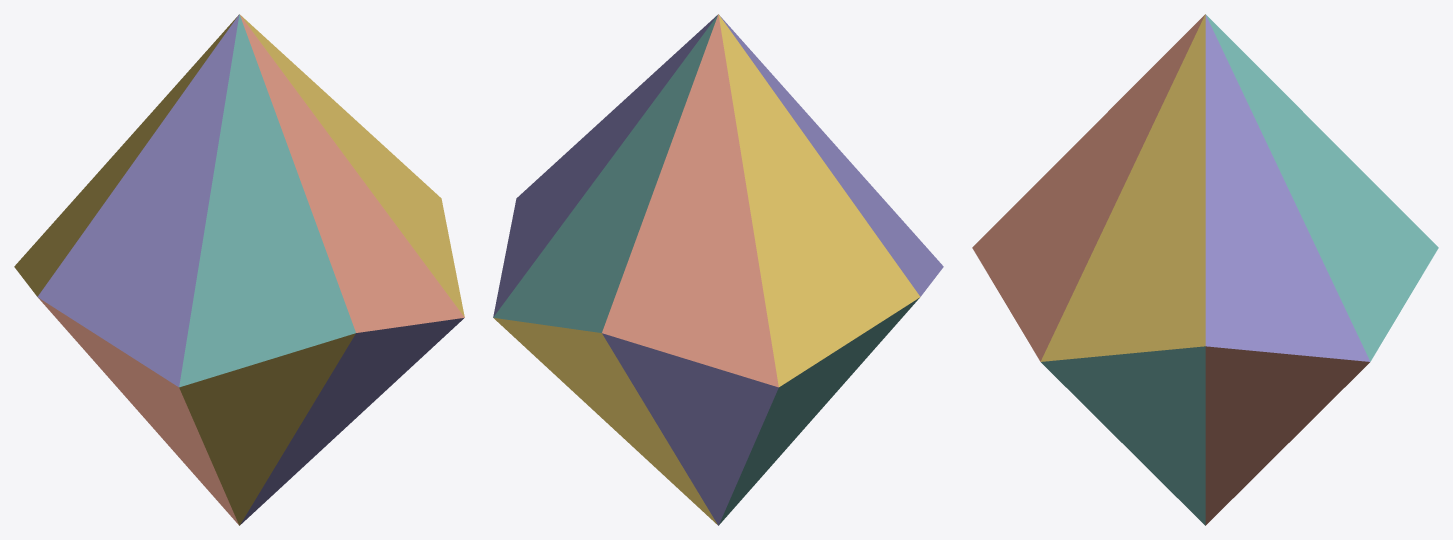
The model's file is roomboard-gem.glb.
The picture shows the model from 3 angles, left to right: view 1: azimuth 30°, elevation 25°; view 2: azimuth 150°, elevation 25°; view 3: azimuth 270°, elevation 25°; orthographic projection.
Visible parts, largest first — view 1: Roomboard gem; view 2: Roomboard gem; view 3: Roomboard gem.
Part boxes in pixels (bbox=[...]): Roomboard gem: bbox=[14, 14, 464, 525]; Roomboard gem: bbox=[493, 14, 943, 525]; Roomboard gem: bbox=[972, 14, 1438, 525].
Size of the model in its own units: 1.9 by 2.3 by 1.9.
